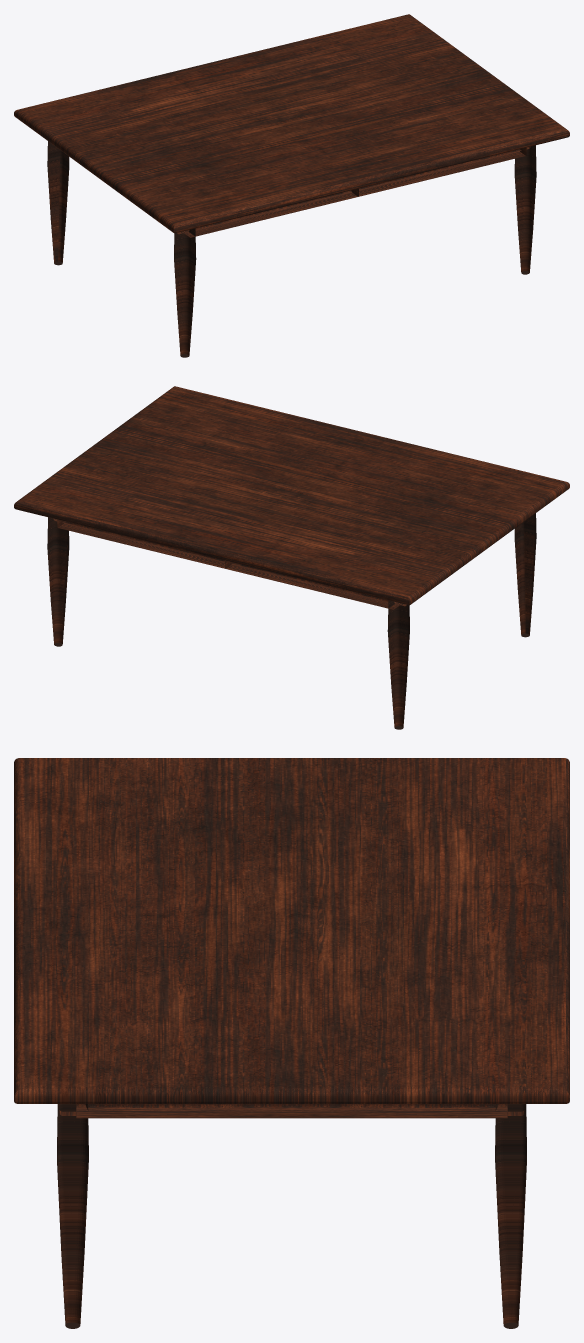
Rendered from table.glb.
3 views of the same model, one above another, from view 1: azimuth 30°, elevation 25°; view 2: azimuth 150°, elevation 25°; view 3: azimuth 270°, elevation 25° (orthographic). The views are drawn at different scales.
Parts seen in each view (by area): view 1: Cube; view 2: Cube; view 3: Cube.
Boxes of the visible parts, x1,y1,x2,y2 form: Cube: [14, 14, 569, 357]; Cube: [14, 386, 569, 729]; Cube: [14, 758, 569, 1328].
Size of the model in its own units: 2 by 0.7174 by 1.4.
Materials: 1 (1 with a texture image).
